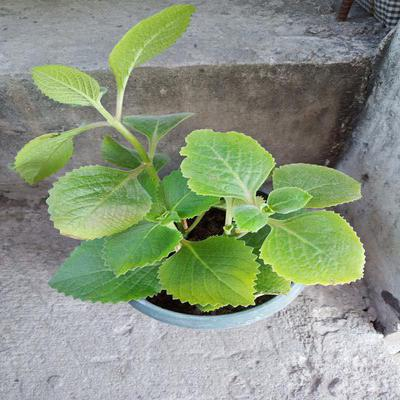Oregano: (61, 101, 376, 324)
